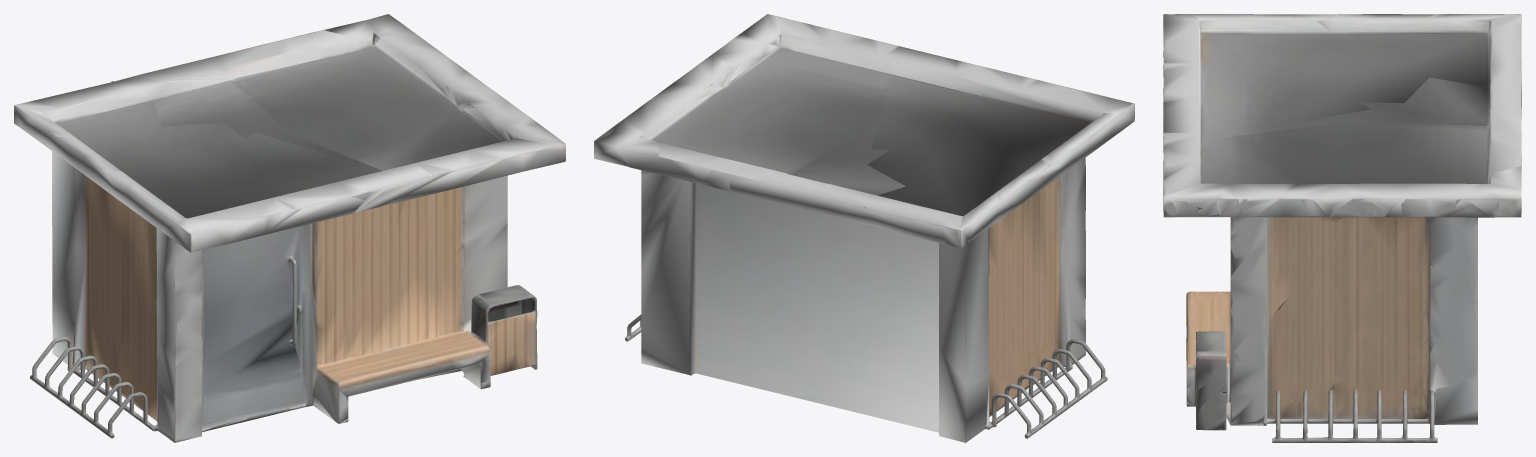
Rendered from building_restroom.glb.
The picture shows the model from 3 angles, left to right: view 1: azimuth 30°, elevation 25°; view 2: azimuth 150°, elevation 25°; view 3: azimuth 270°, elevation 25°; orthographic projection. The views are drawn at different scales.
Parts seen in each view (by area): view 1: Mesh_0; view 2: Mesh_0; view 3: Mesh_0.
Part boxes in pixels (x1=…): Mesh_0: x1=14, y1=14, x2=565, y2=442; Mesh_0: x1=594, y1=14, x2=1134, y2=442; Mesh_0: x1=1163, y1=14, x2=1521, y2=442.
Bounding box in the file's own units: 1.91 × 1.05 × 1.42.
1 material, 1 textured.
